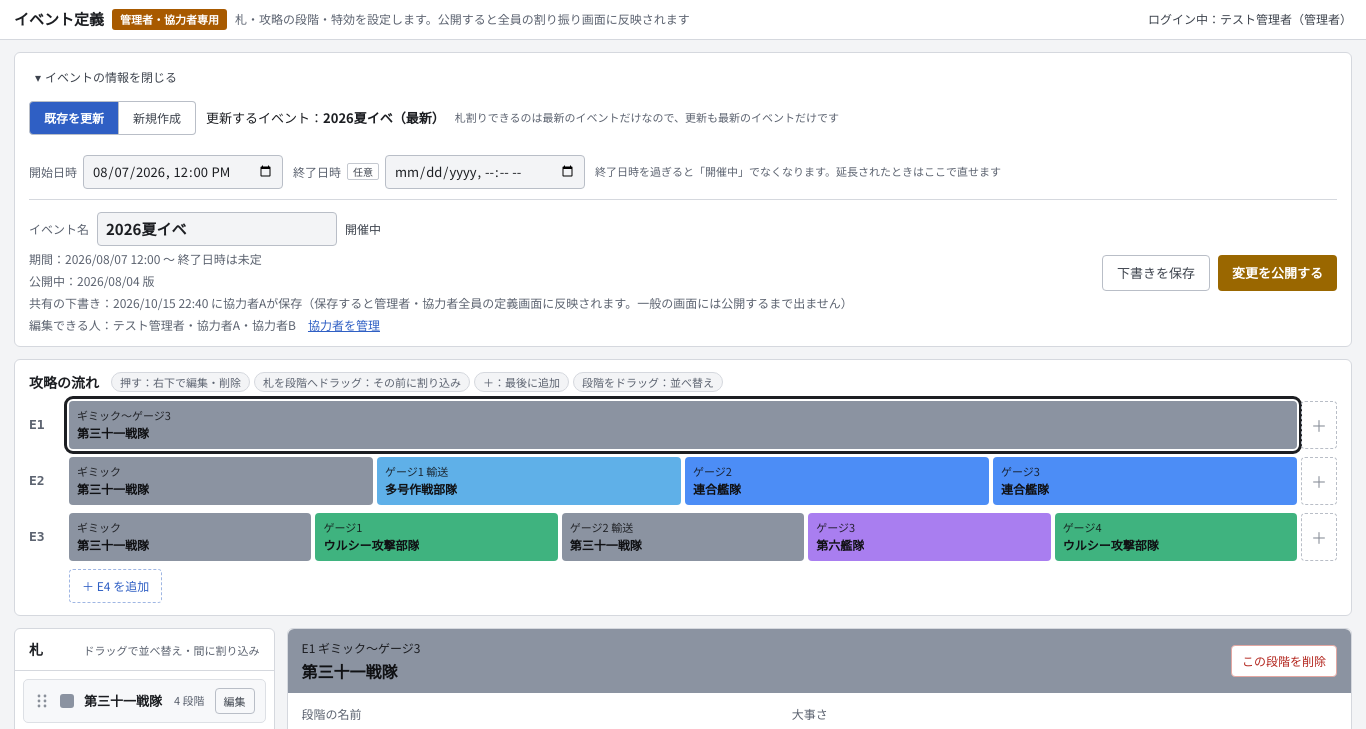
Test: イベント定義の画面（PlanEditor）：PR-11c のレビュー・Codex の指摘の直し方（PR-12b） › 2. 保存・公開の途中は、既存を更新／新規作成を切り替えられない（Codex #22-4301258473・4301258475） › 「下書きを保存」の途中に「新規作成」を押しても切り替わらない（既存を更新のまま）
The image size is (1366, 729).
Check: the element "攻略の流れ" is shown, box [14,358,1352,616]
Click the button "ゲージ3 連合艦隊". click: (1020, 470)
box: [993,456,1297,504]
(page scrolled)
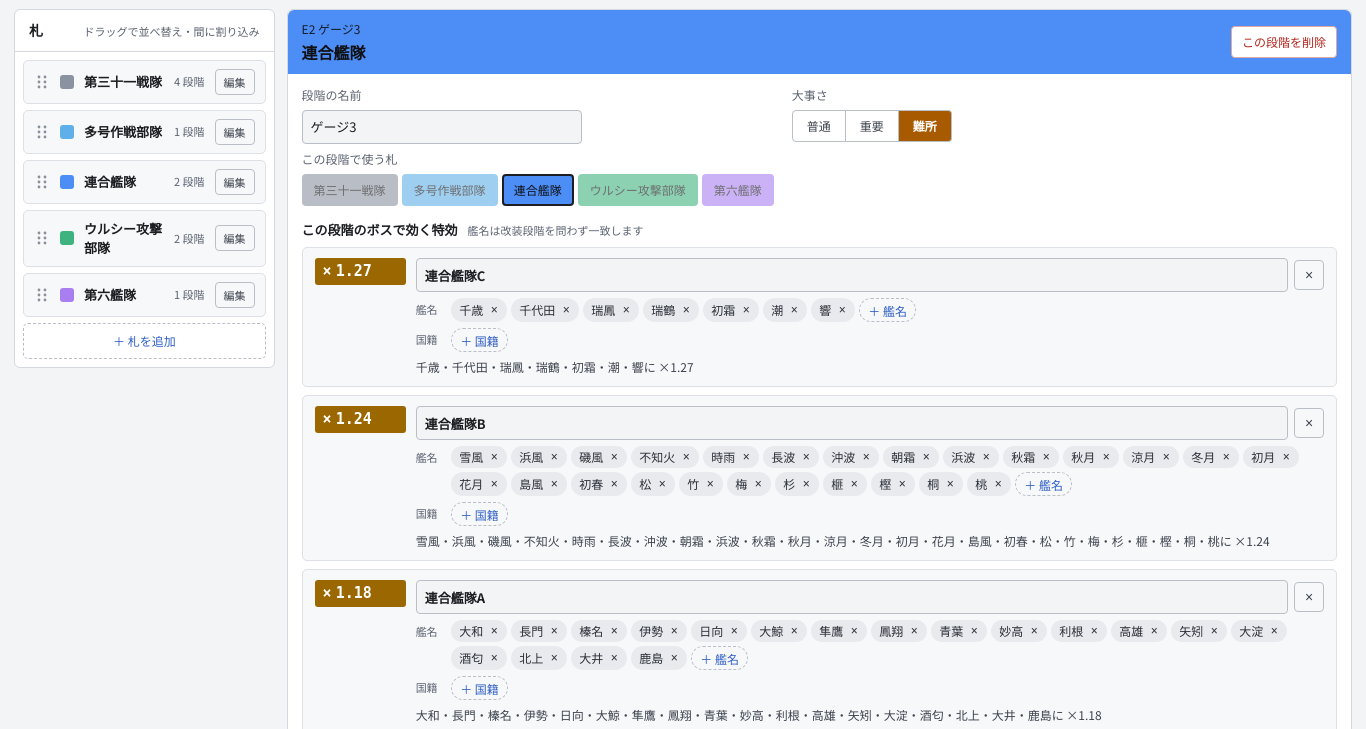
Click the button "普通". click: (819, 126)
box: [792,110,846,142]
(page scrolled)
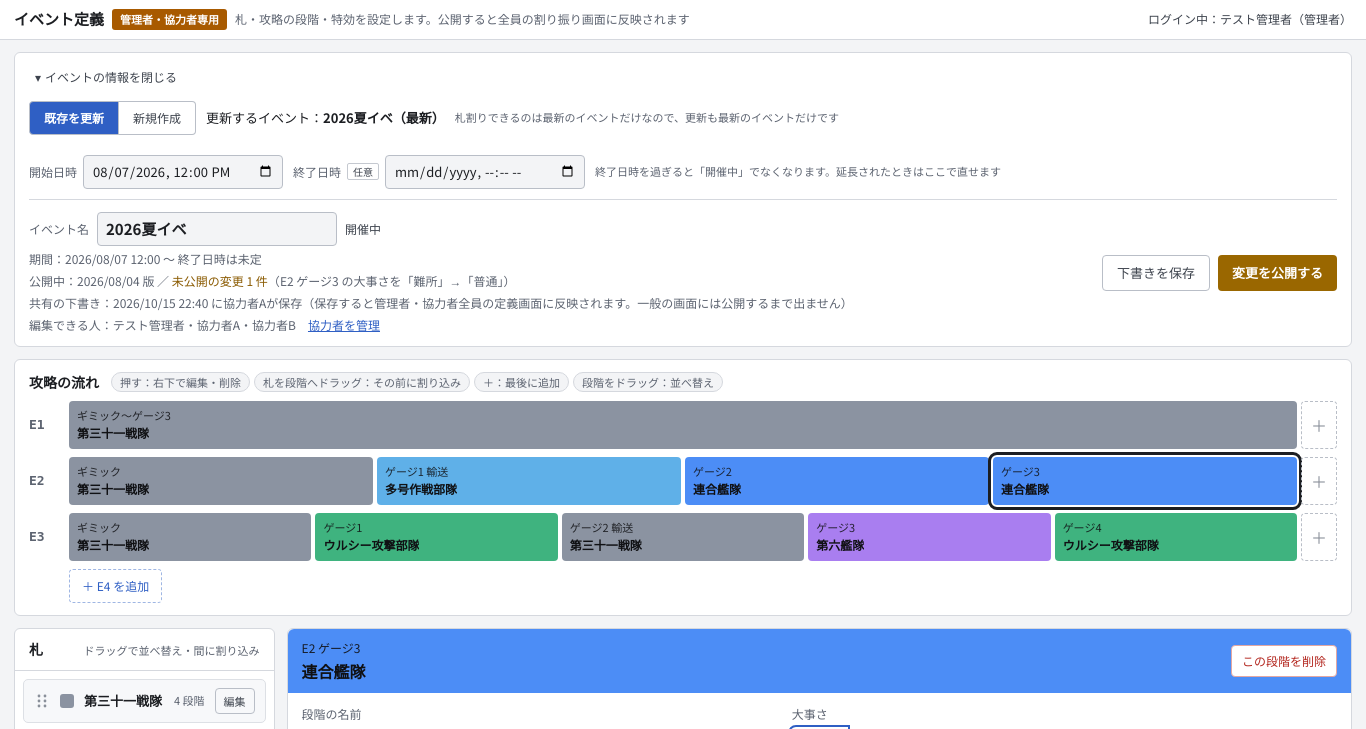
Click the button "下書きを保存". click: (1156, 272)
box: [1102,254,1210,290]
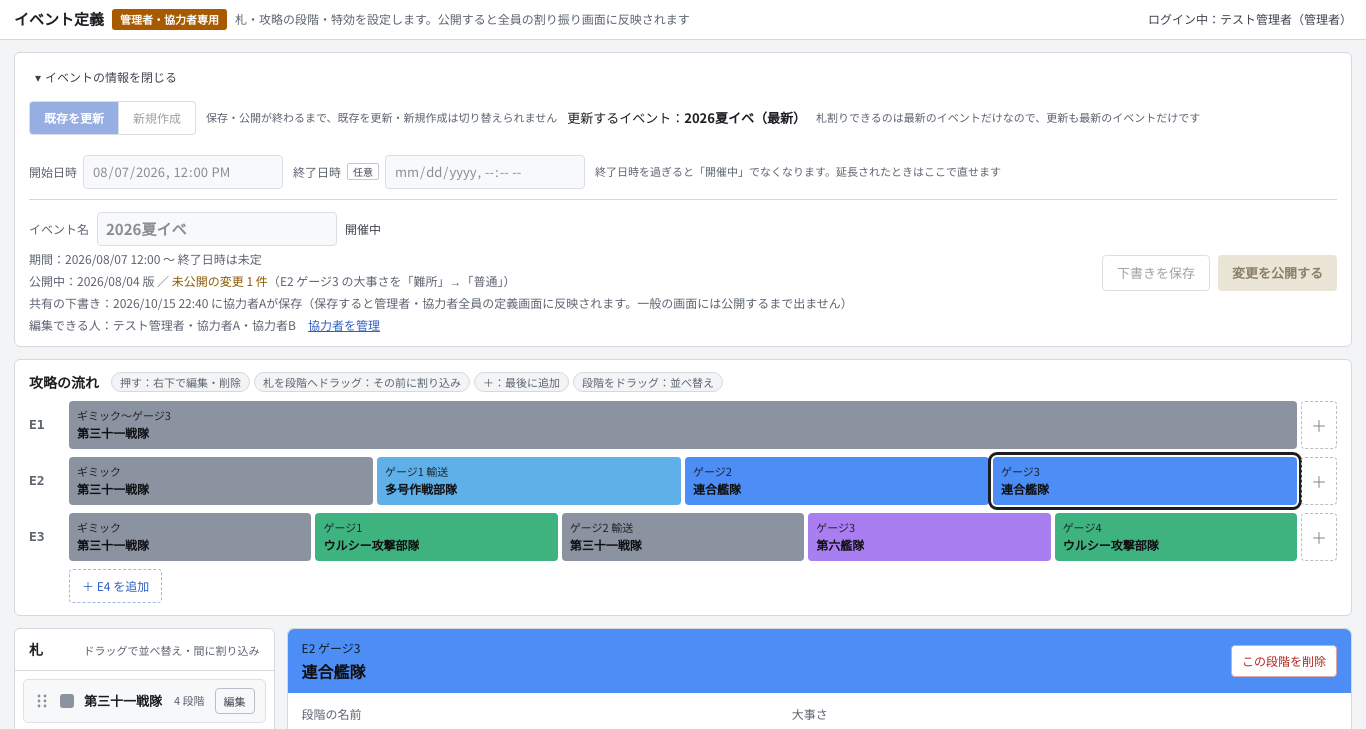
Click the radio button labelled "新規作成". click: (158, 118)
box: [119,100,196,134]
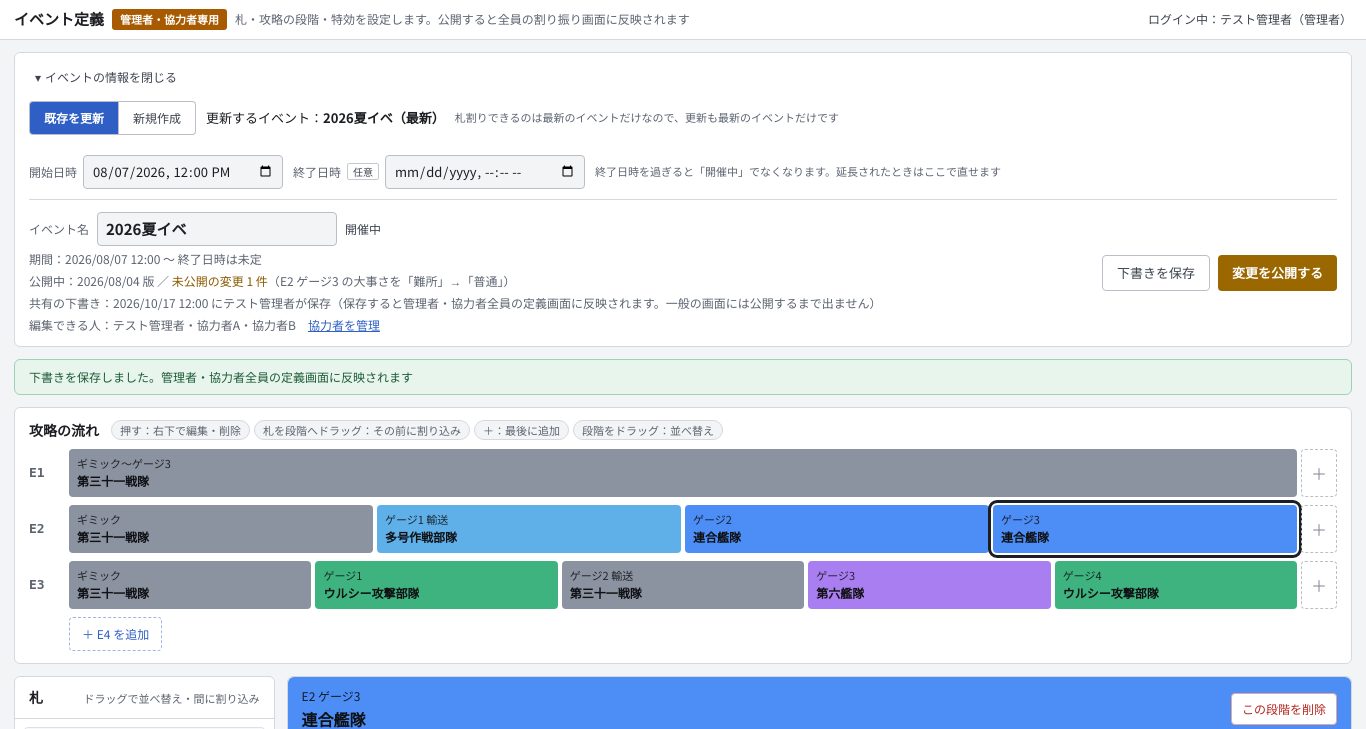
Check: the radio button labelled "既存を更新" is checked, box [29,100,119,134]
Check: the button "下書きを保存" is enabled, box [1102,254,1210,290]
